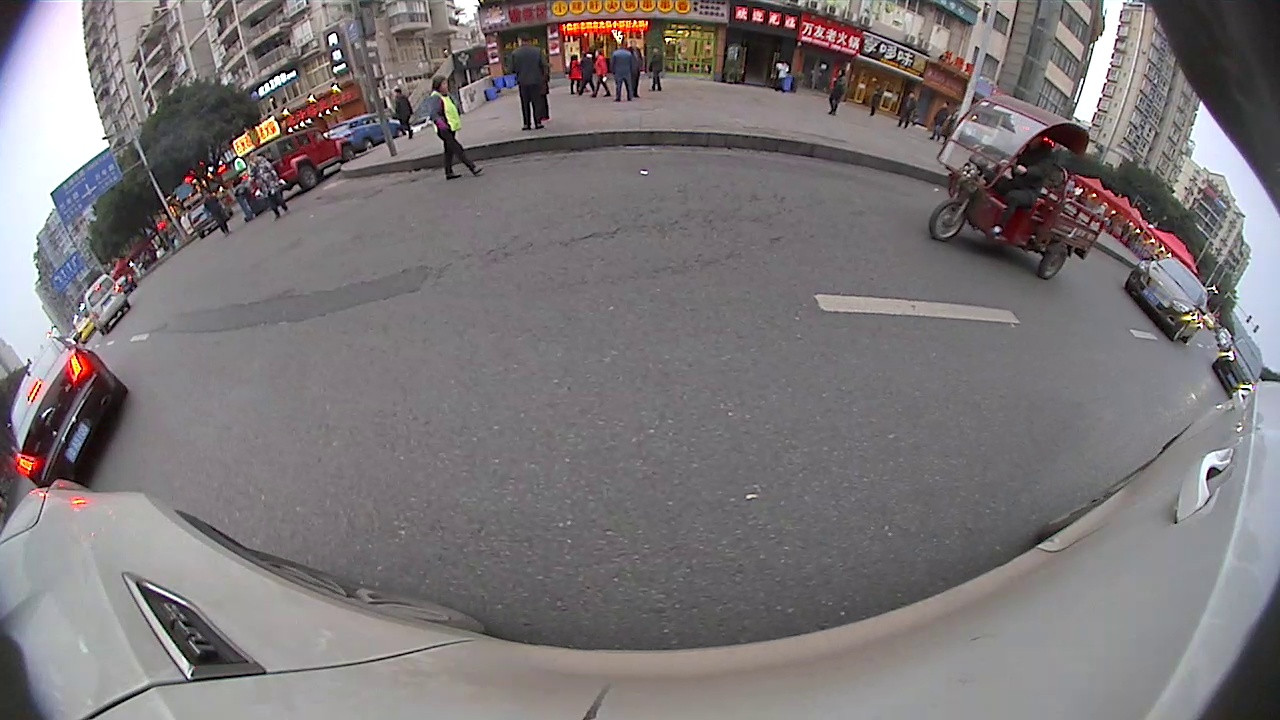car: (10, 336, 130, 489), (1124, 253, 1212, 341), (254, 127, 354, 189), (1212, 331, 1266, 402), (81, 271, 132, 335), (326, 112, 403, 152)
front: (926, 196, 972, 243)
person: (512, 32, 549, 133), (427, 70, 458, 179), (611, 40, 634, 105), (391, 85, 413, 141)
rear: (1038, 244, 1069, 284)
rider: (928, 92, 1111, 281)
